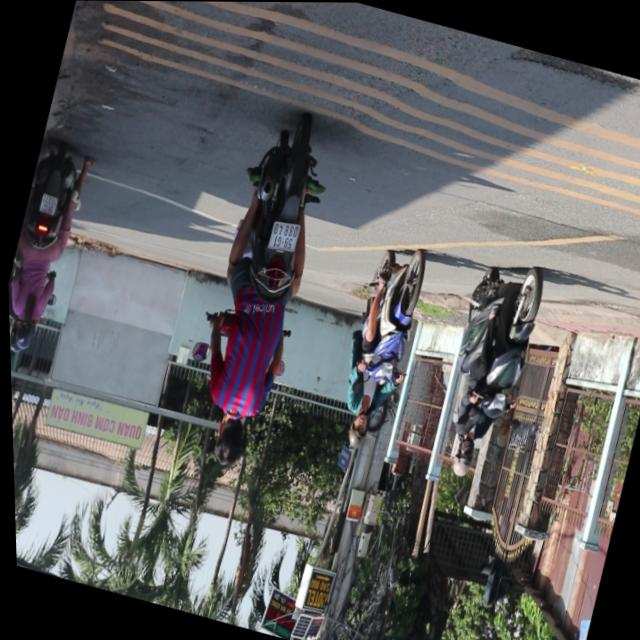helmet: (445, 435, 475, 479), (341, 408, 369, 449), (8, 314, 37, 352)
licenseplate: (164, 108, 352, 478), (418, 249, 556, 490), (318, 236, 437, 456), (3, 136, 99, 363)
motorcyclist: (203, 408, 250, 470)
nohelmet: (266, 220, 298, 254), (36, 193, 56, 215)
